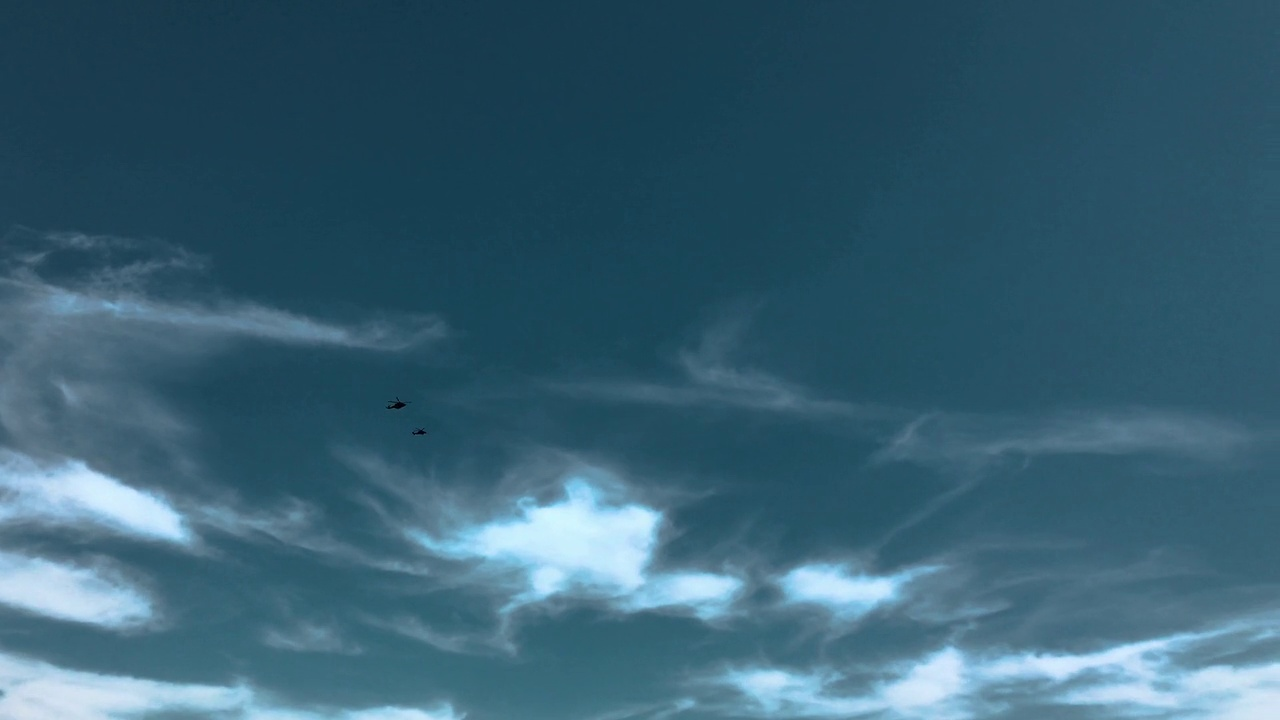heli: (384, 397, 412, 410), (411, 428, 427, 435)
